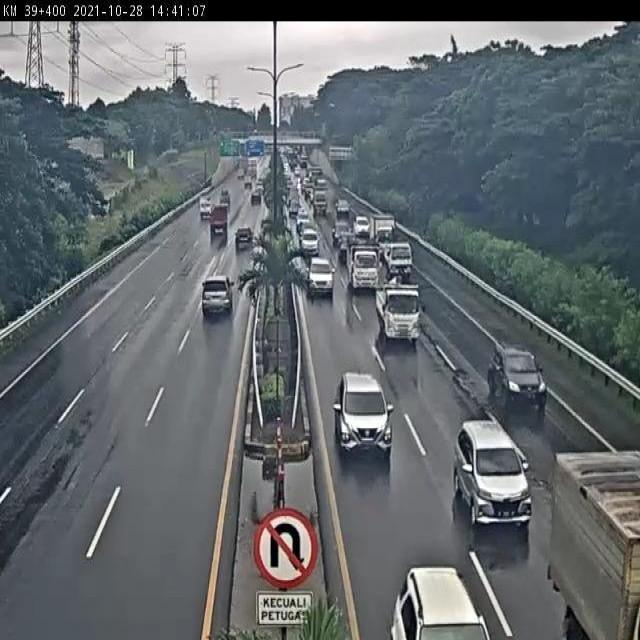car: (452, 421, 534, 528), (334, 371, 393, 457), (485, 340, 548, 409), (306, 256, 335, 299)
mid truck: (376, 284, 420, 343), (345, 241, 380, 292), (201, 275, 233, 317), (385, 238, 414, 278)
